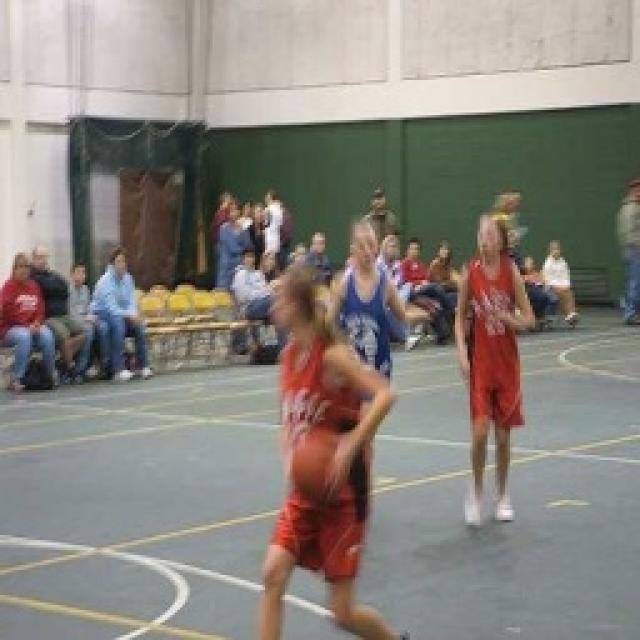basketball: (289, 422, 351, 508)
